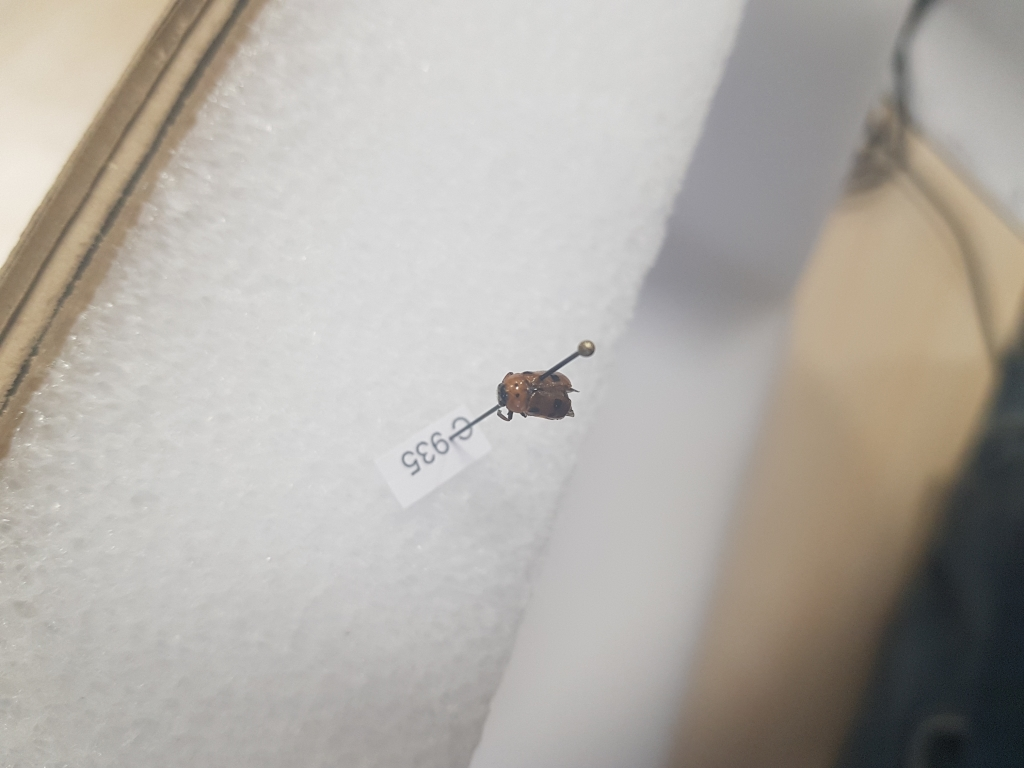Clytra_novempunctata: (492, 364, 578, 430)
